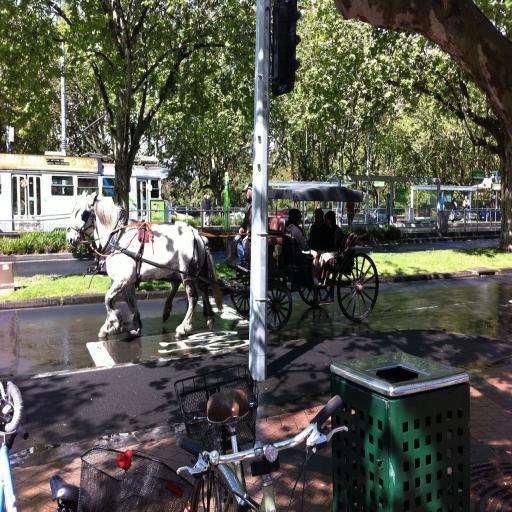horse: (66, 190, 224, 340), (64, 188, 214, 326)
